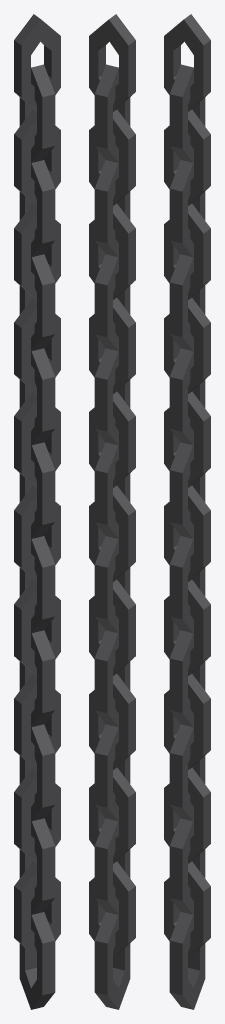
File: SM_Prp_Chain_01.gltf
3 views of the same model, side by side, from view 1: azimuth 30°, elevation 25°; view 2: azimuth 150°, elevation 25°; view 3: azimuth 330°, elevation 25° (orthographic).
Visible parts, largest first — view 1: SM_Prp_Chain_01; view 2: SM_Prp_Chain_01; view 3: SM_Prp_Chain_01.
Boxes of the visible parts, bbox=[...] form: SM_Prp_Chain_01: bbox=[14, 14, 60, 1009]; SM_Prp_Chain_01: bbox=[89, 14, 135, 1009]; SM_Prp_Chain_01: bbox=[164, 14, 210, 1009].
Bounding box in the file's own units: 0.1103 × 2.65 × 0.1103.
Materials: 1 (1 with a texture image).
